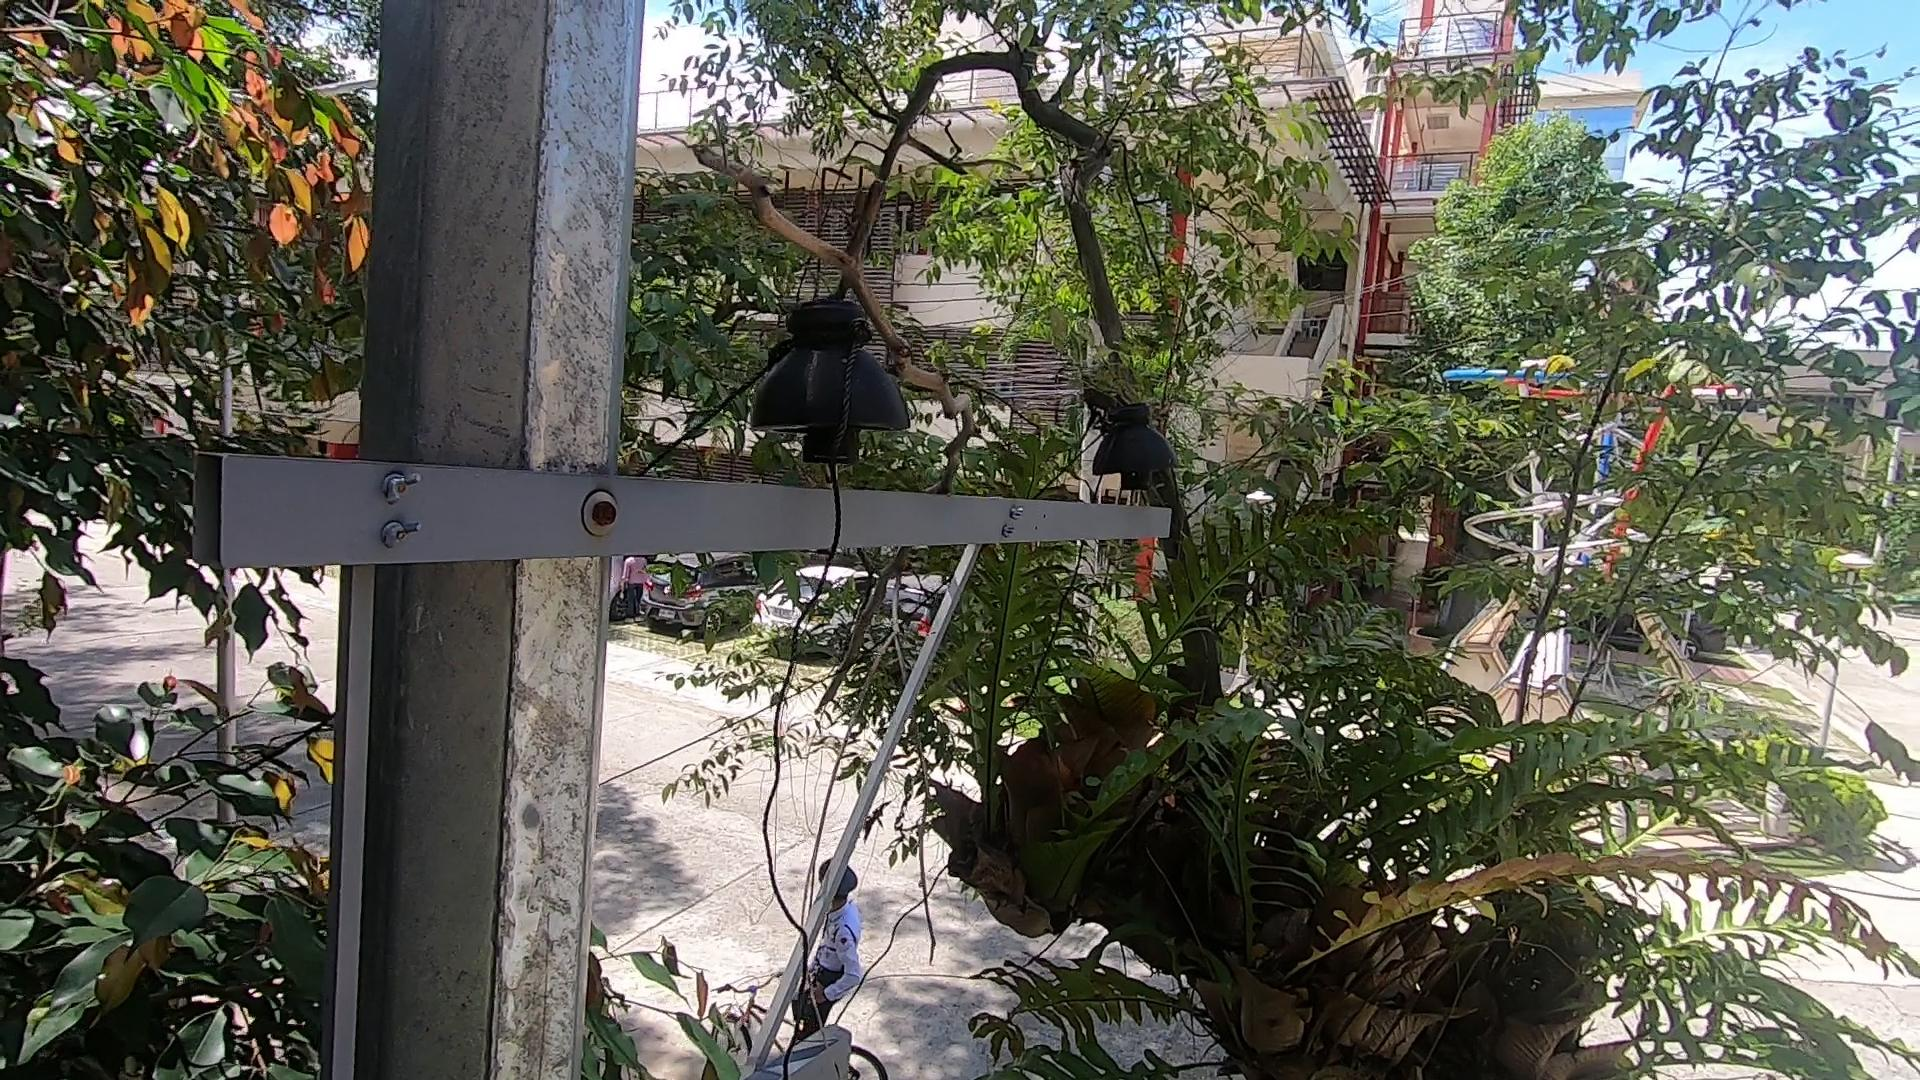tree branch: (683, 117, 989, 728)
